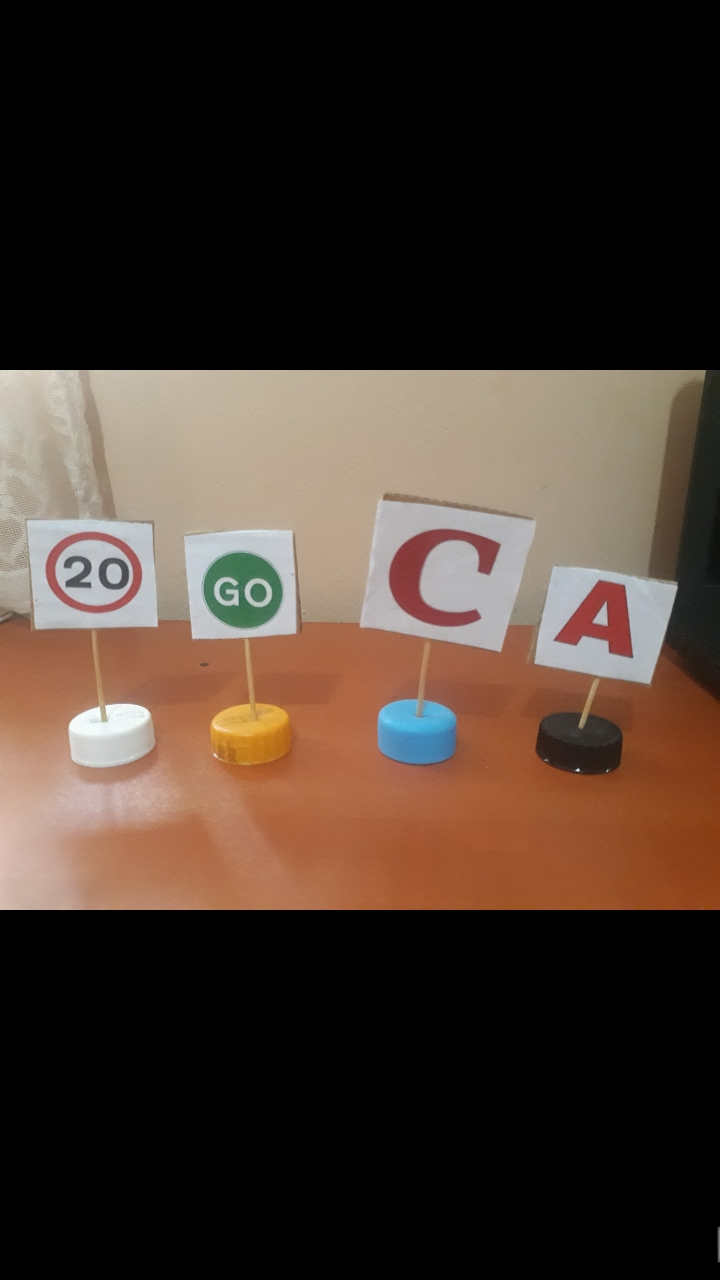20 kph: (36, 519, 155, 629)
go: (189, 535, 295, 639)
zone A: (550, 568, 651, 668)
zone C: (385, 515, 508, 639)
